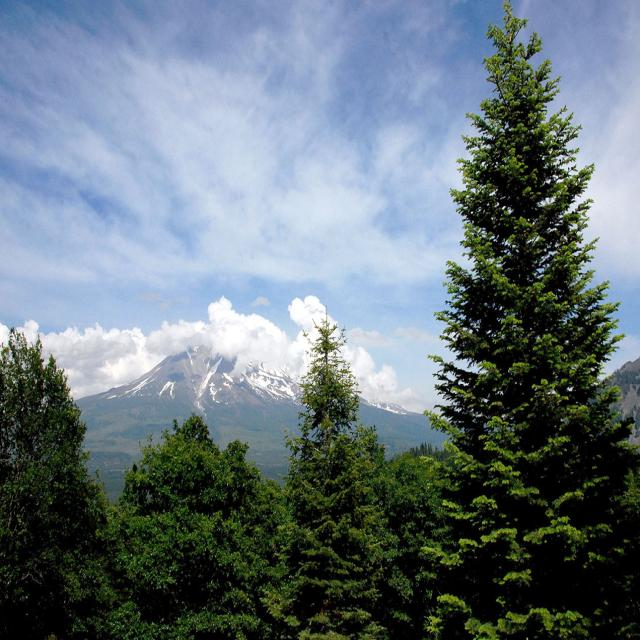Pseudotsuga menziesii: (436, 0, 638, 640), (280, 311, 387, 640)
